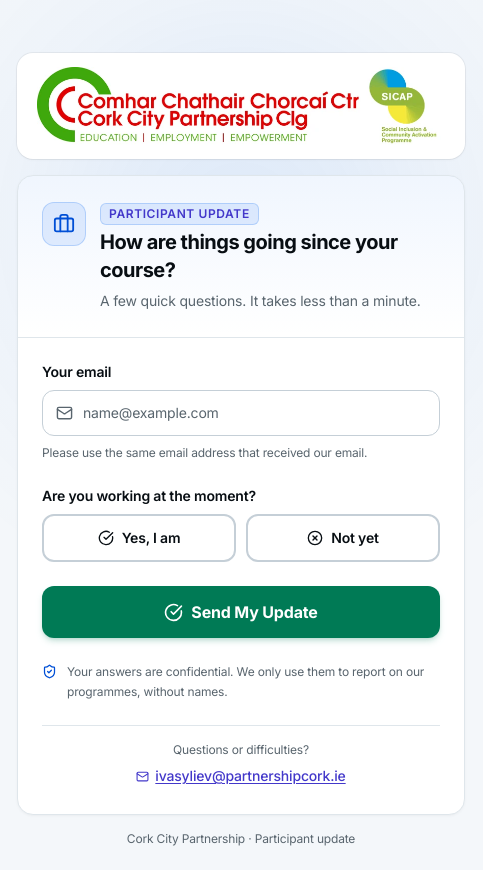
StatusUpdatePage › does not accept a start month that has not come yet
This screenshot has width=483, height=870.
Type "anna@example.com" into the field labelled "Your email". click: (241, 413)
box: [42,390,440,436]
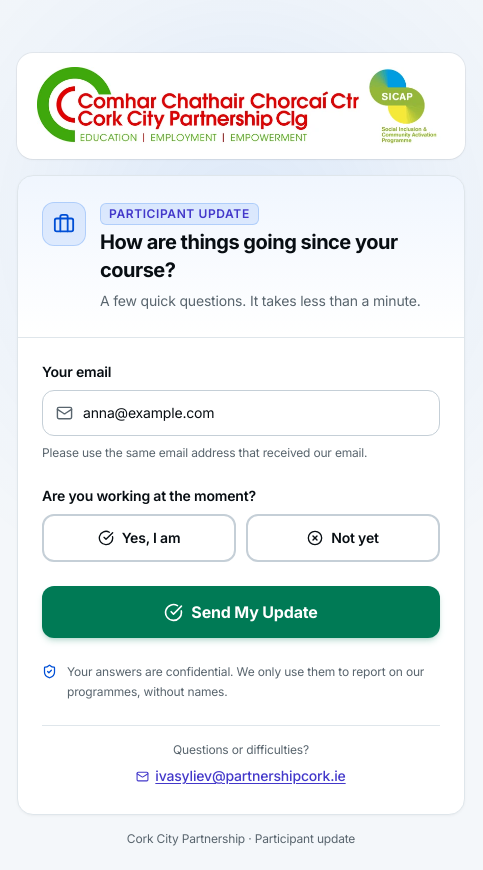
Click the button "Yes, I am". click: (139, 538)
box: [42,514,236,562]
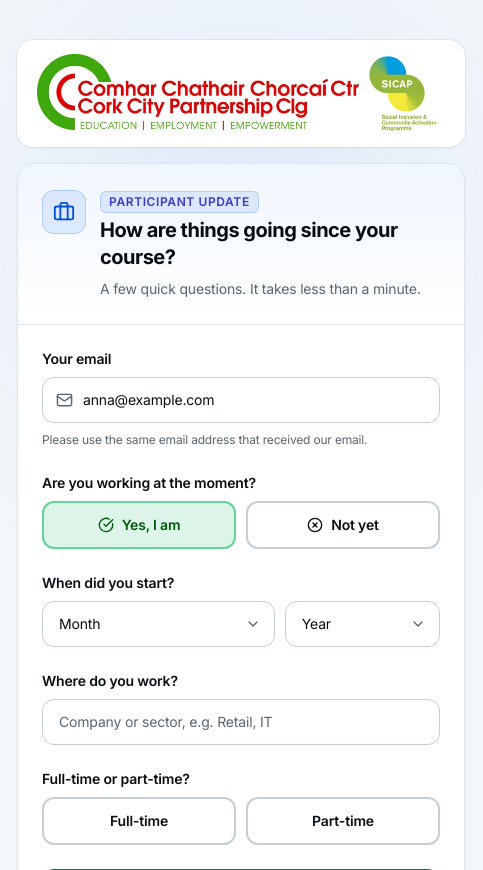
Select "May" in the dropdown named "start month". click: (158, 624)
box: [42,601,275,647]
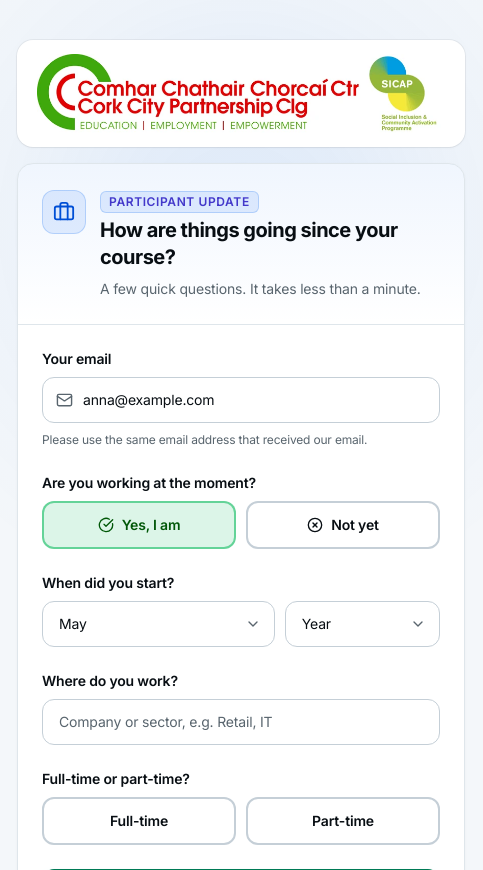
Select "2026" in the dropdown named "start year". click: (362, 624)
box: [285,601,440,647]
(page scrolled)
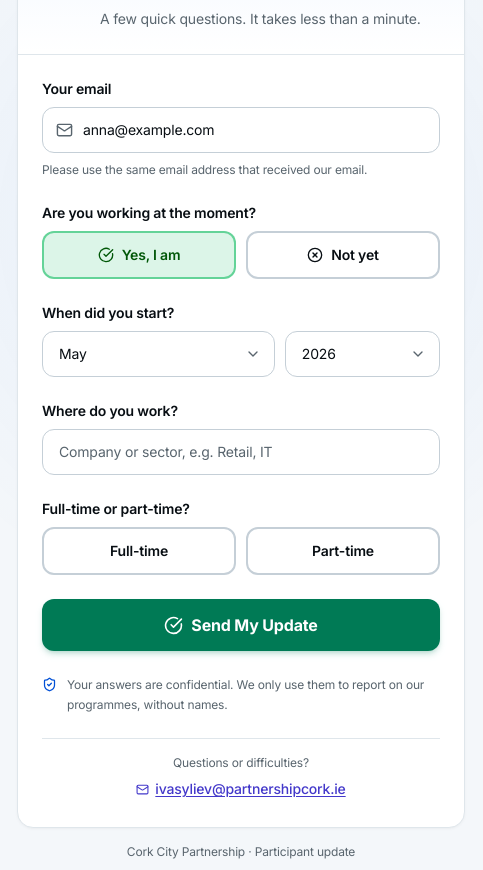
Click the button "Send My Update". click: (241, 625)
box: [42,599,440,651]
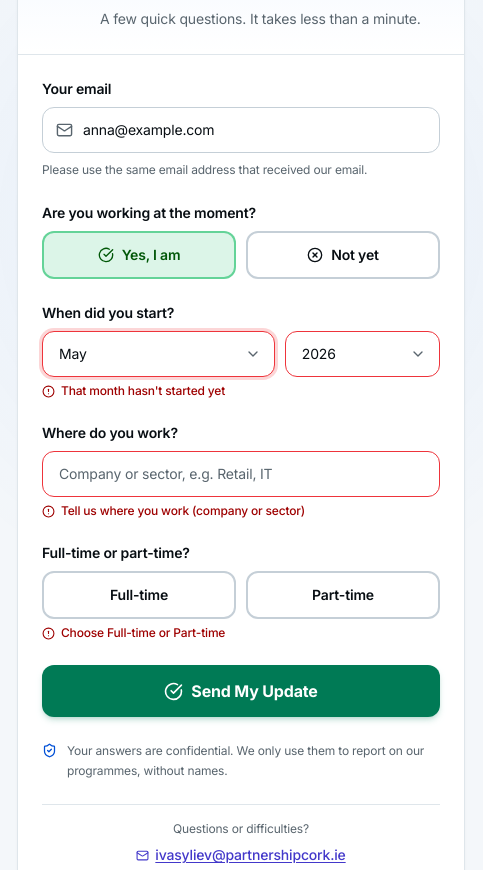
Expected: the text "That month hasn't started yet" is shown, [42,383,225,398]
